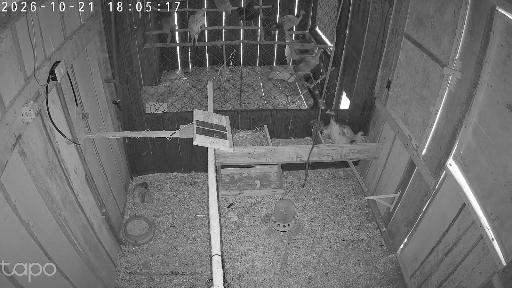frango: (273, 10, 307, 41), (294, 48, 324, 77), (131, 182, 150, 206)
galinha: (326, 108, 354, 145), (236, 0, 259, 27), (157, 10, 177, 36), (214, 0, 233, 16), (262, 13, 274, 34)
galo: (187, 8, 207, 49)
pintinho: (310, 118, 325, 132), (354, 131, 365, 142)
